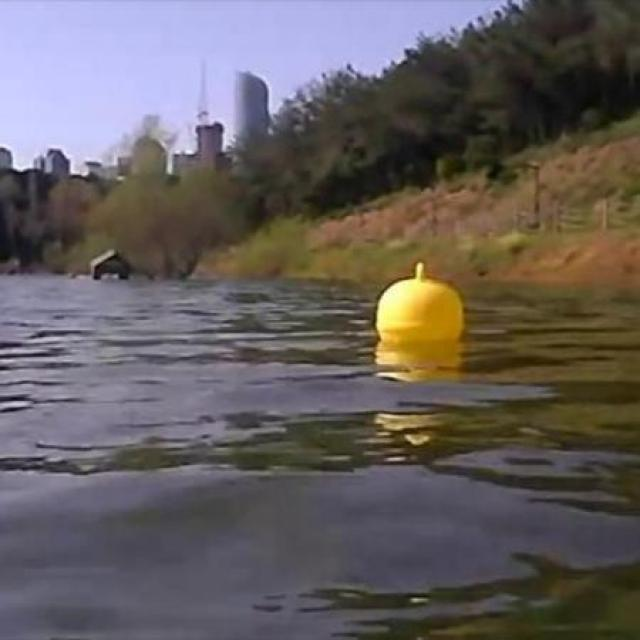buoy: (379, 270, 464, 346)
